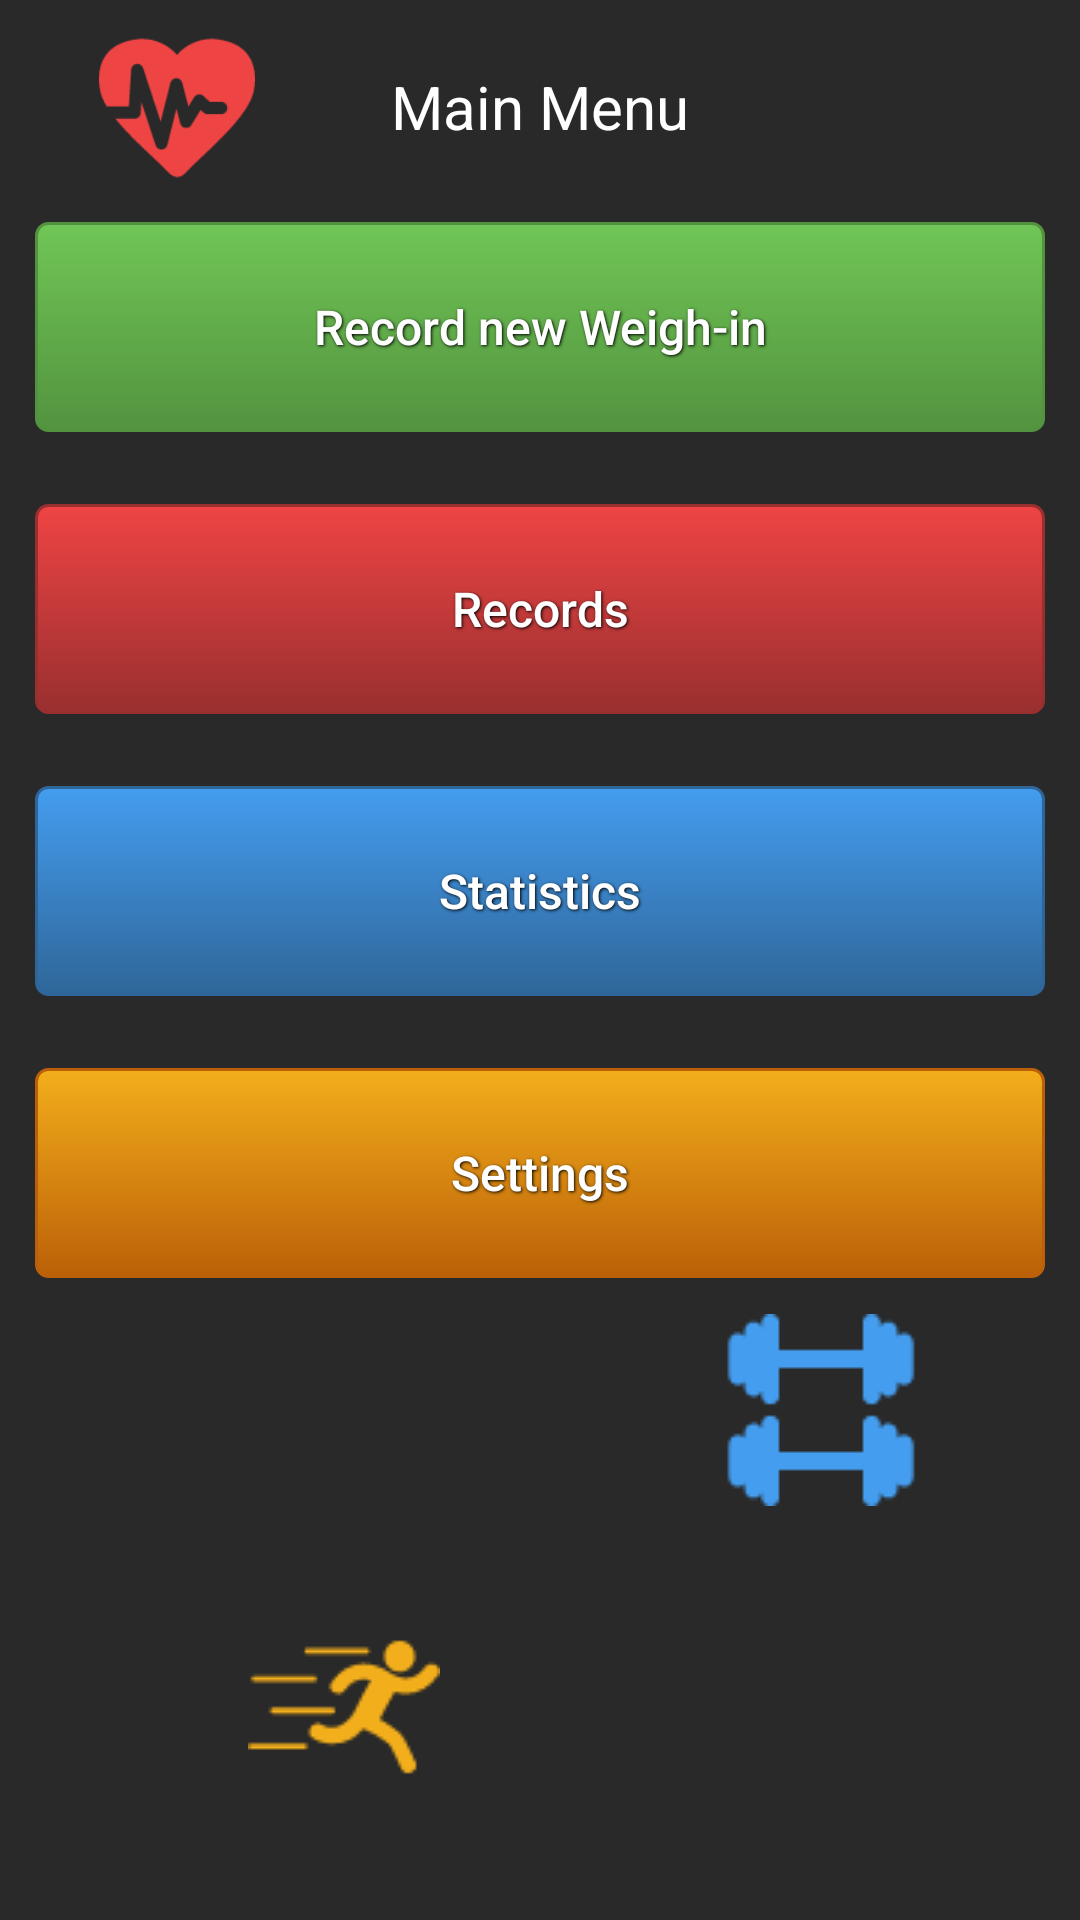

Screen size 1080px×1920px. Icon name, then its box in pixels as (x1, y1, x2, y2):
dumbbells: (727, 1314, 915, 1506)
heart: (99, 38, 255, 178)
runer: (248, 1640, 440, 1774)
